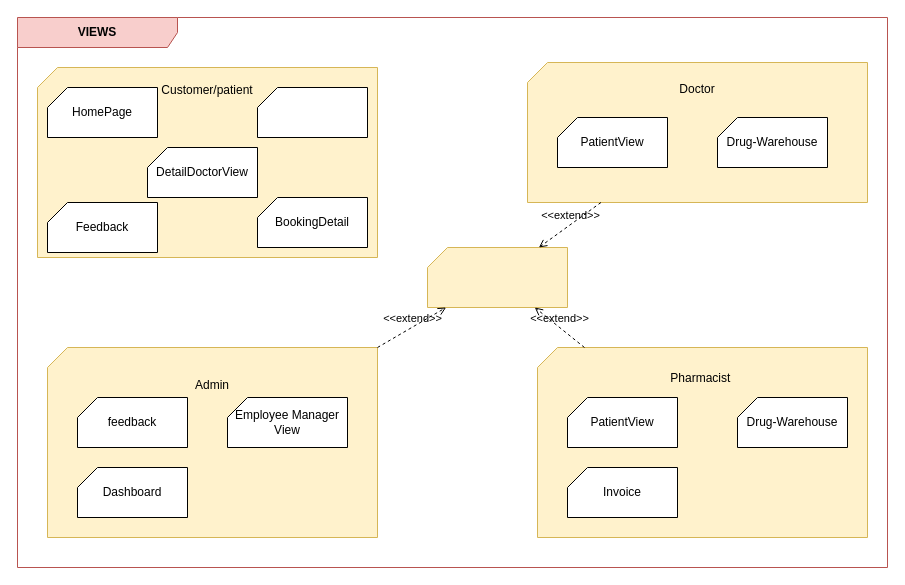
Image size: 905x585. Some labels were removed from this diagram. The centre of each missing label's shape, as x and y in pixels:
"BookingPage" belongs at [312,112].
"LoggedView" belongs at [497,277].
